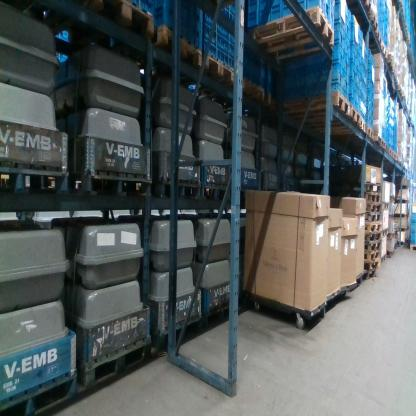pallet: (252, 4, 335, 59), (77, 335, 151, 388), (0, 368, 77, 416), (86, 0, 154, 35), (0, 159, 67, 194), (153, 23, 202, 67), (69, 172, 151, 197), (153, 313, 202, 352), (280, 90, 350, 117), (204, 296, 244, 331), (302, 104, 361, 127), (150, 177, 198, 200), (203, 51, 234, 85), (330, 116, 365, 136), (198, 183, 226, 201), (364, 232, 382, 243), (363, 260, 380, 271), (363, 270, 378, 281), (365, 203, 381, 213), (365, 212, 381, 222), (365, 222, 381, 232), (365, 183, 381, 193), (364, 242, 380, 251), (365, 123, 373, 141), (364, 251, 380, 259), (366, 193, 380, 202), (369, 15, 377, 30), (387, 56, 394, 71), (381, 43, 387, 60), (376, 31, 382, 47), (379, 228, 388, 237), (382, 202, 390, 212), (373, 136, 381, 146), (393, 211, 406, 217), (392, 187, 407, 192), (387, 249, 395, 258), (380, 138, 386, 150), (393, 199, 407, 204), (381, 253, 386, 265), (389, 149, 394, 159), (409, 244, 416, 251), (398, 227, 407, 232), (388, 232, 395, 238), (397, 241, 405, 246), (385, 145, 389, 154), (393, 153, 397, 161)
small_load_carrier: (309, 47, 350, 78), (309, 70, 349, 100), (282, 1, 331, 25), (332, 2, 351, 35), (346, 14, 363, 49), (329, 32, 351, 54), (247, 2, 283, 15), (348, 47, 363, 77), (347, 85, 359, 115), (349, 67, 363, 92), (349, 38, 363, 62), (357, 76, 368, 103), (357, 96, 367, 124), (359, 36, 367, 66), (358, 60, 367, 83), (409, 233, 415, 245), (409, 223, 415, 233), (410, 212, 415, 223)
